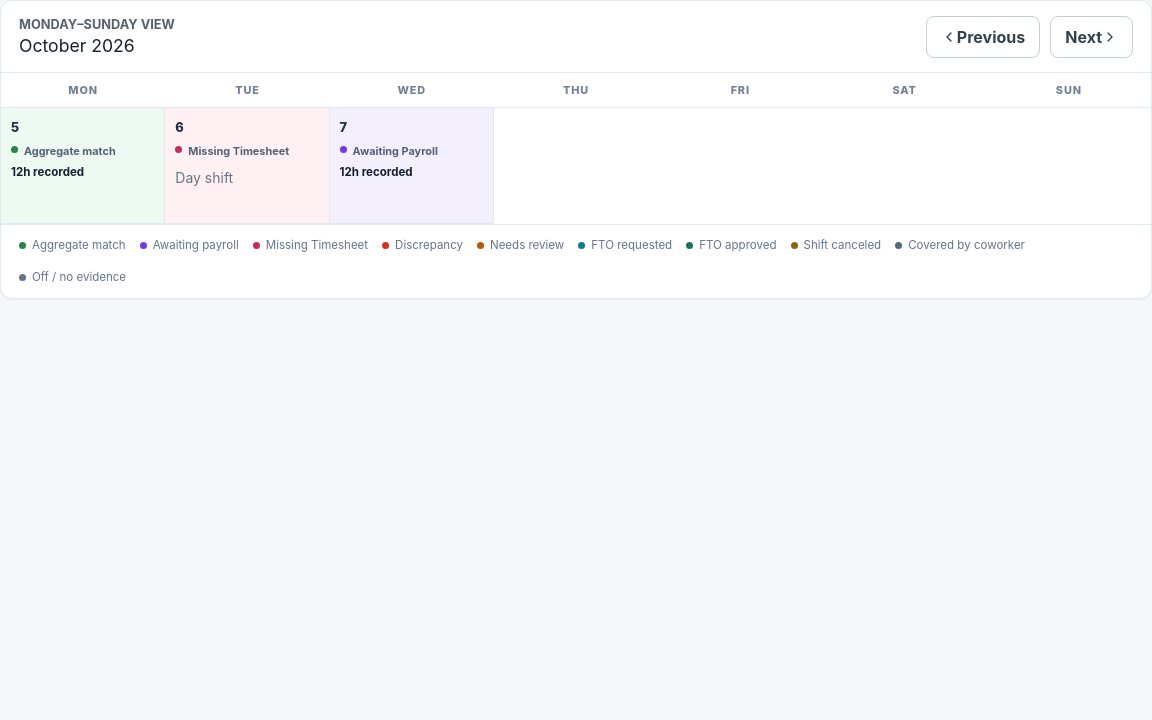
Test: PayrollCalendar › labels a conflicted daily estimate as unavailable
What coordinates should you click on to do the following:
click the button with aria-label "October 7, 2026"
I would click on:
 (412, 166)
Its box is [330,108,494,224].
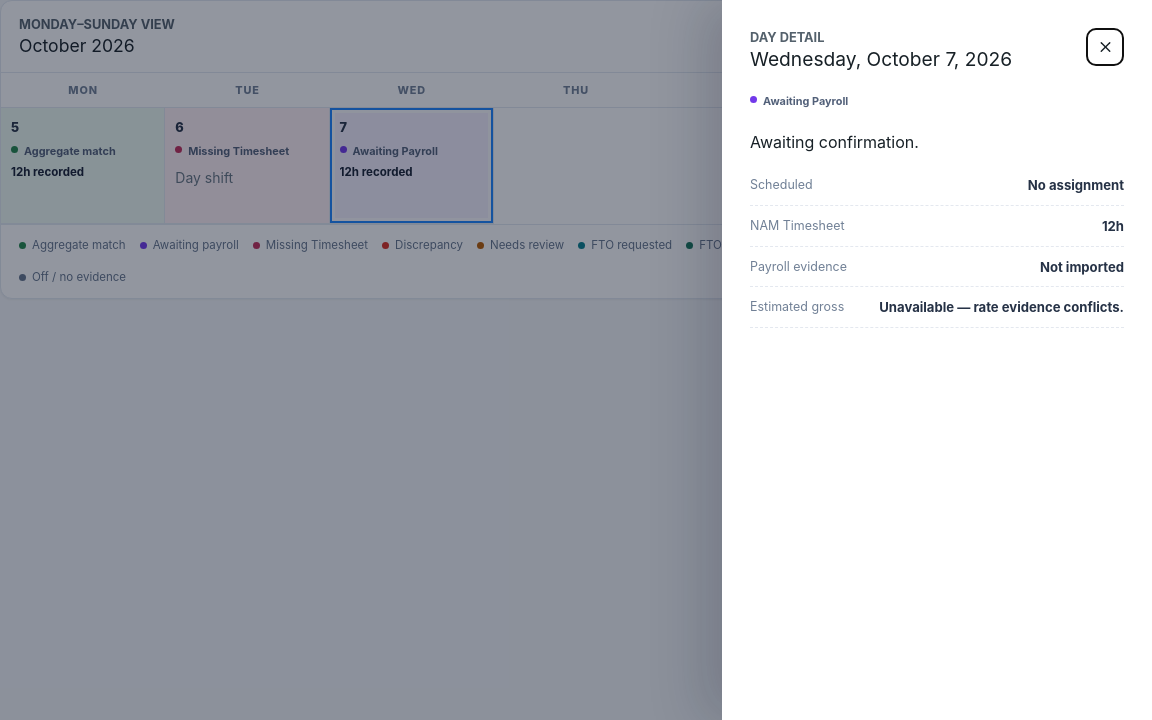
Expected: the dialog shows "Unavailable — rate evidence conflicts"
